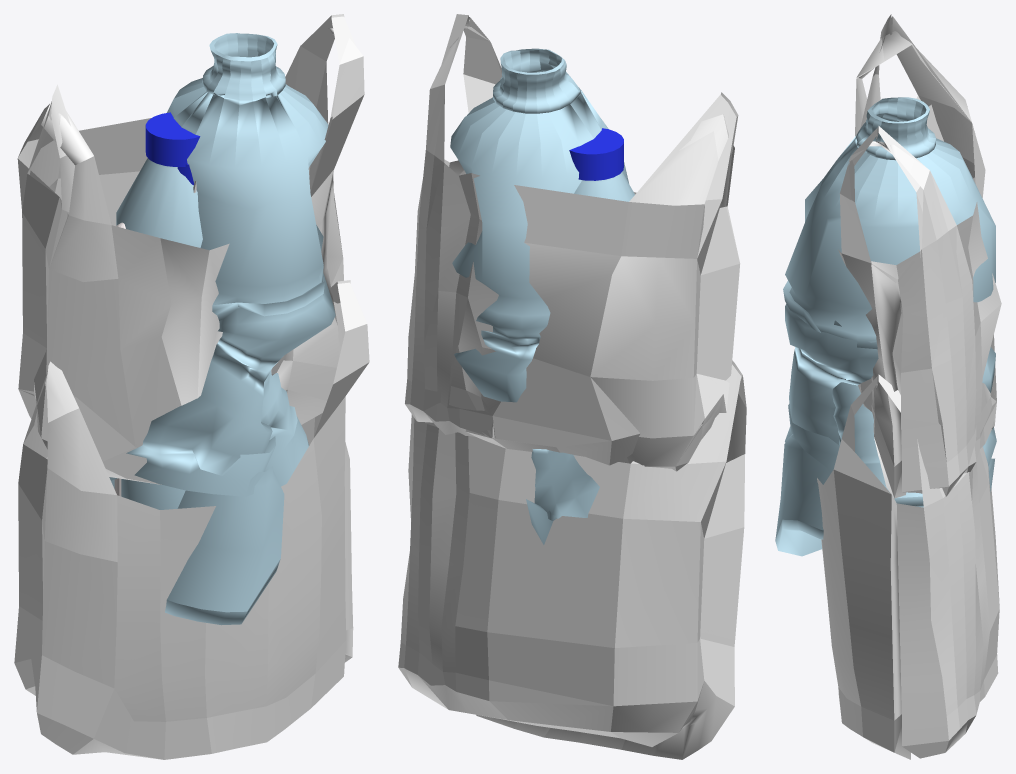
The model's file is PlasticsAnimation.gltf.
The picture shows the model from 3 angles, left to right: view 1: azimuth 30°, elevation 25°; view 2: azimuth 150°, elevation 25°; view 3: azimuth 270°, elevation 25°; orthographic projection. The views are drawn at different scales.
Parts seen in each view (by area): view 1: plastic bag 2, bottle crushed, plastic bag 1, plastic bag 3, polySurface5, bottle bent; view 2: plastic bag 2, plastic bag 3, plastic bag 1, bottle crushed, polySurface5; view 3: plastic bag 2, bottle crushed, plastic bag 3, plastic bag 1, bottle bent.
Part boxes in pixels (x1,y1,x2,y2): plastic bag 2: (14, 280, 369, 759); bottle crushed: (109, 33, 335, 625); plastic bag 1: (17, 28, 364, 484); plastic bag 3: (18, 14, 356, 477); polySurface5: (116, 112, 202, 509); bottle bent: (177, 164, 308, 486); plastic bag 2: (398, 360, 746, 759); plastic bag 3: (405, 14, 740, 471); plastic bag 1: (407, 26, 739, 465); bottle crushed: (450, 48, 628, 544); polySurface5: (569, 128, 634, 201); plastic bag 2: (817, 374, 999, 759); bottle crushed: (775, 97, 996, 556); plastic bag 3: (839, 14, 1001, 498); plastic bag 1: (838, 31, 1001, 473); bottle bent: (832, 382, 923, 507).
Size of the model in its own units: 0.4699 by 0.9891 by 0.312.
